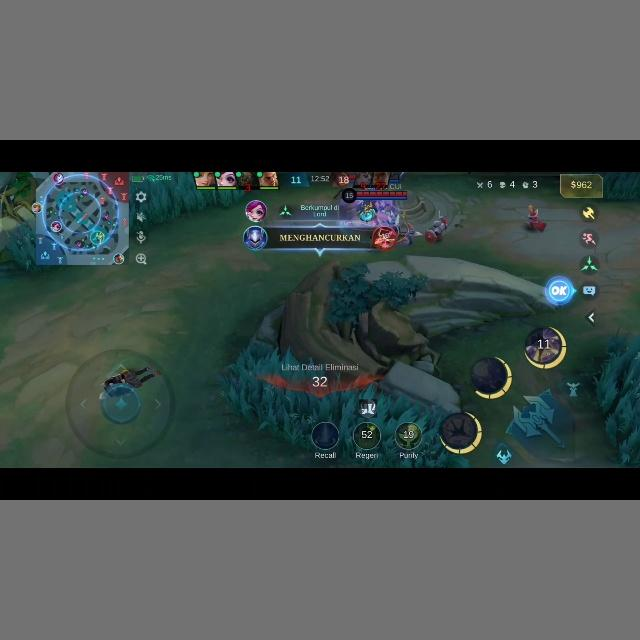hp_enemy: (355, 188, 408, 198)
minion_ally: (400, 222, 422, 244)
minion_enemy: (524, 204, 548, 231), (424, 214, 447, 242)
